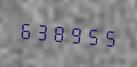eight: (52, 18, 68, 46)
five: (86, 21, 102, 49), (103, 23, 119, 51)
nine: (69, 20, 85, 48)
six: (17, 15, 33, 43)
three: (34, 17, 50, 45)
